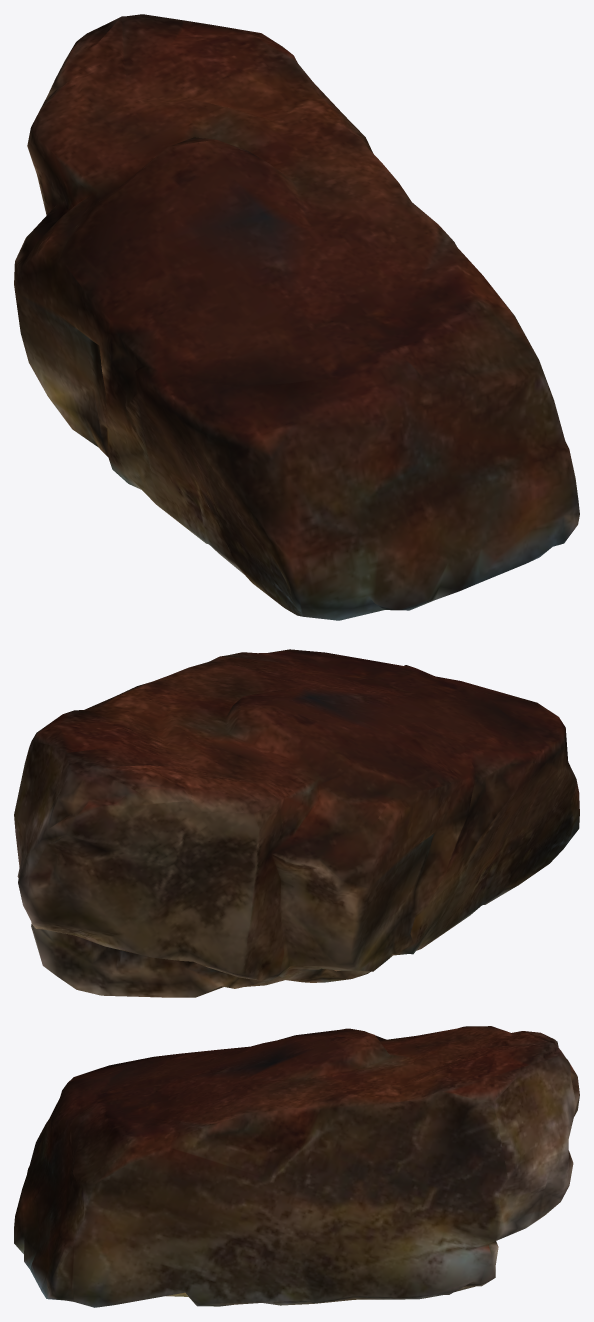
File: rock_07.glb
3 renders of one model, top to bottom at view 1: azimuth 30°, elevation 25°; view 2: azimuth 150°, elevation 25°; view 3: azimuth 270°, elevation 25°, orthographic. The views are drawn at different scales.
Visible parts, largest first — view 1: rock_07; view 2: rock_07; view 3: rock_07.
Boxes of the visible parts, box(x1,y1,x2,y2) form: rock_07: box(14, 14, 579, 620); rock_07: box(14, 649, 579, 997); rock_07: box(14, 1026, 579, 1307).
Size of the model in its own units: 0.167 by 0.1434 by 0.3194.
1 material, 1 textured.
